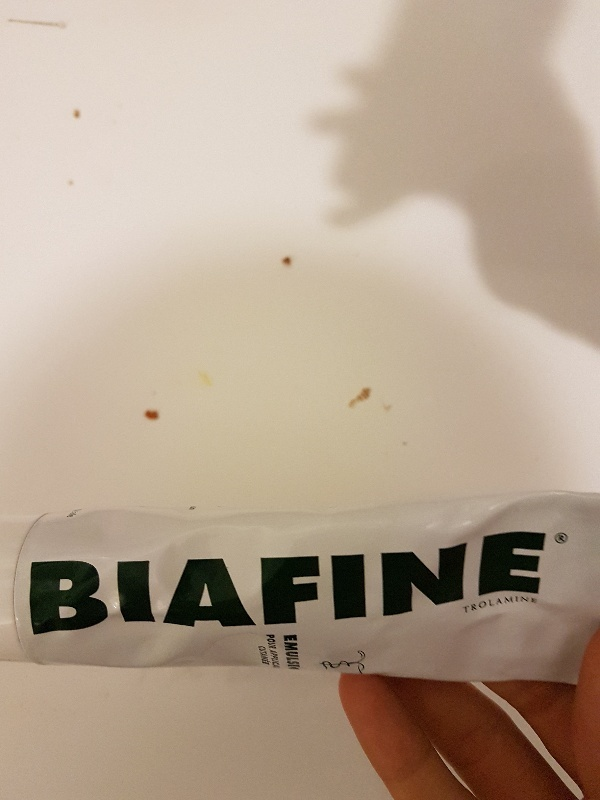text: (33, 529, 48, 637), (49, 529, 64, 637), (65, 529, 80, 637), (81, 529, 96, 637), (97, 529, 112, 637), (113, 529, 128, 637), (129, 529, 144, 637), (145, 529, 160, 637), (161, 529, 176, 637), (177, 529, 192, 637), (193, 529, 208, 637), (209, 529, 224, 637), (225, 529, 240, 637), (241, 529, 256, 637), (257, 529, 272, 637), (273, 529, 288, 637), (289, 529, 304, 637), (305, 529, 320, 637), (321, 529, 336, 637), (337, 529, 352, 637), (353, 529, 368, 637), (369, 529, 384, 637), (385, 529, 400, 637), (401, 529, 416, 637), (417, 529, 432, 637), (433, 529, 448, 637), (449, 529, 464, 637), (465, 529, 480, 637), (481, 529, 496, 637), (497, 529, 512, 637), (513, 529, 528, 637), (529, 529, 544, 637), (289, 634, 300, 671), (465, 590, 480, 613), (481, 590, 496, 613), (497, 590, 512, 613), (513, 590, 528, 613), (29, 529, 32, 637), (257, 646, 272, 666), (545, 529, 547, 637), (529, 590, 538, 613), (283, 634, 288, 671), (273, 650, 280, 667), (266, 634, 272, 649), (461, 590, 464, 613), (273, 634, 277, 649), (561, 535, 566, 543), (270, 650, 272, 667), (558, 535, 560, 543)
